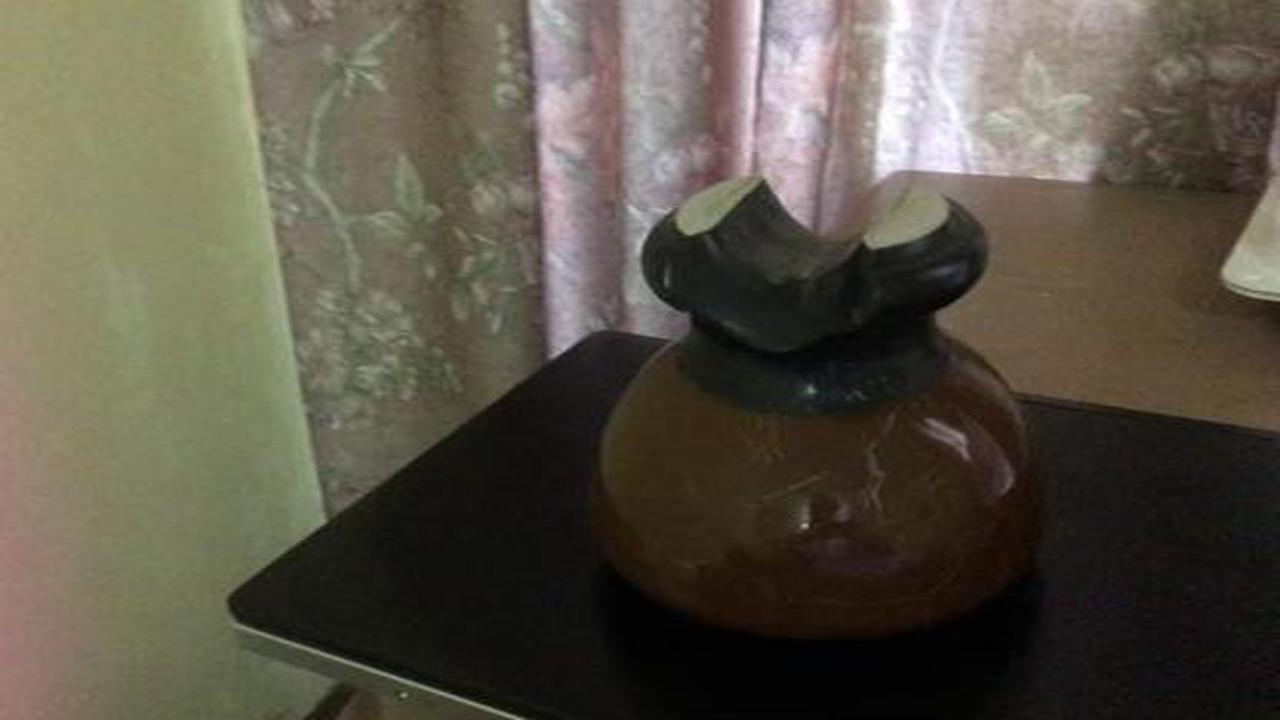insulator_pin: (579, 165, 1068, 655)
